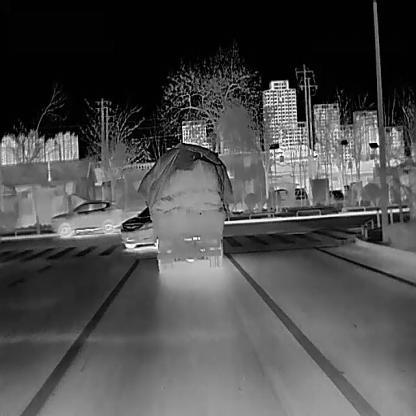car: (137, 141, 234, 273), (51, 199, 128, 237), (120, 205, 156, 248), (309, 178, 329, 206), (328, 189, 344, 203), (293, 187, 307, 201)
